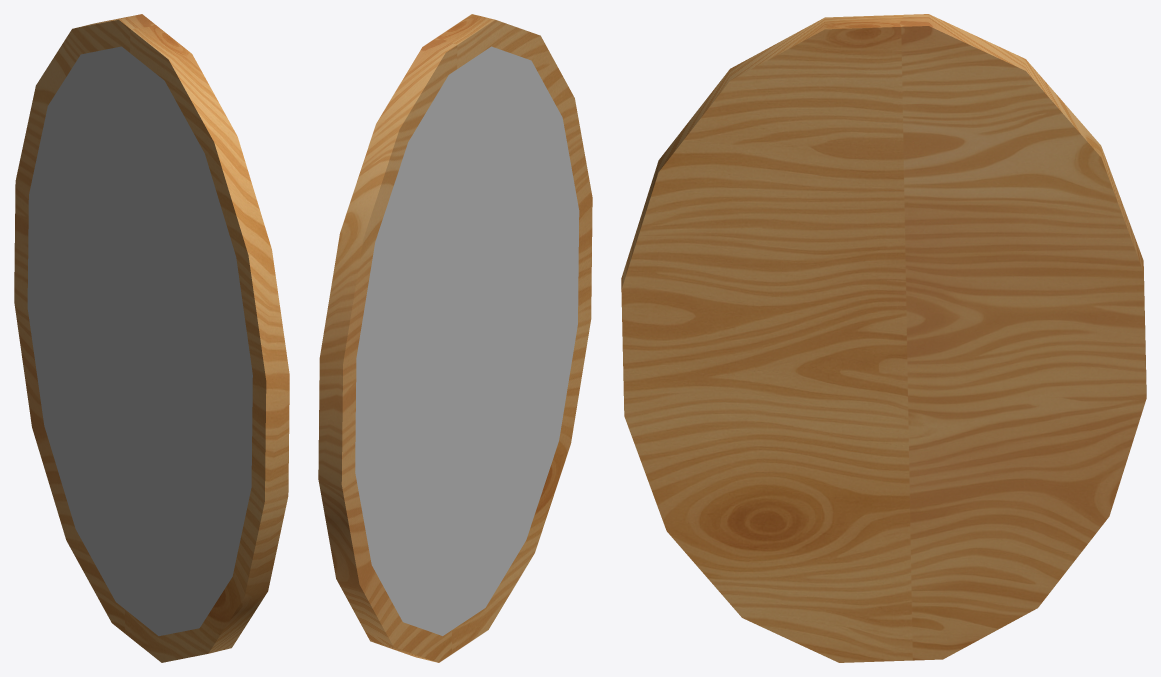
File: Picture_Green_Leaf.fbx
3 views of the same model, side by side, from view 1: azimuth 30°, elevation 25°; view 2: azimuth 150°, elevation 25°; view 3: azimuth 270°, elevation 25° (orthographic). The views are drawn at different scales.
Visible parts, largest first — view 1: Picture_Green_Leaf; view 2: Picture_Green_Leaf; view 3: Picture_Green_Leaf.
Part boxes in pixels (left/top/right/bottom): Picture_Green_Leaf: left=14, top=14, right=289, bottom=662; Picture_Green_Leaf: left=318, top=14, right=592, bottom=662; Picture_Green_Leaf: left=621, top=14, right=1146, bottom=662.
Size of the model in its own units: 4.19 by 104 by 77.77.
